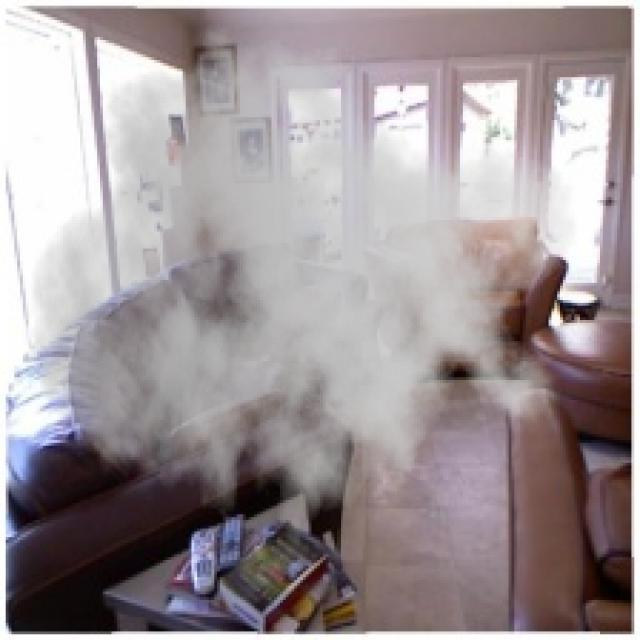smoke: (29, 11, 580, 572)
